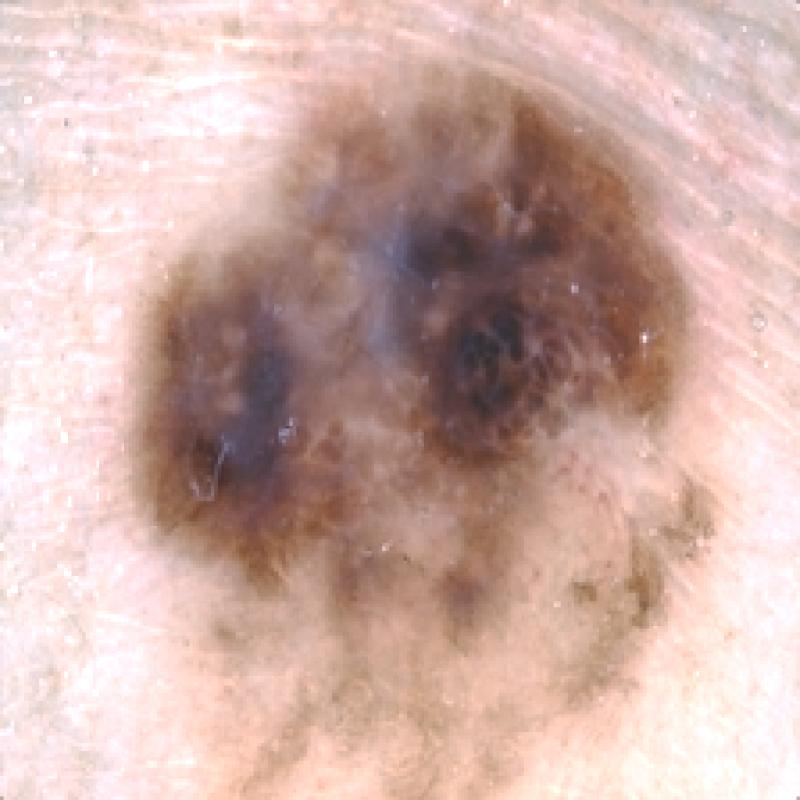malignant: (125, 58, 708, 702)
